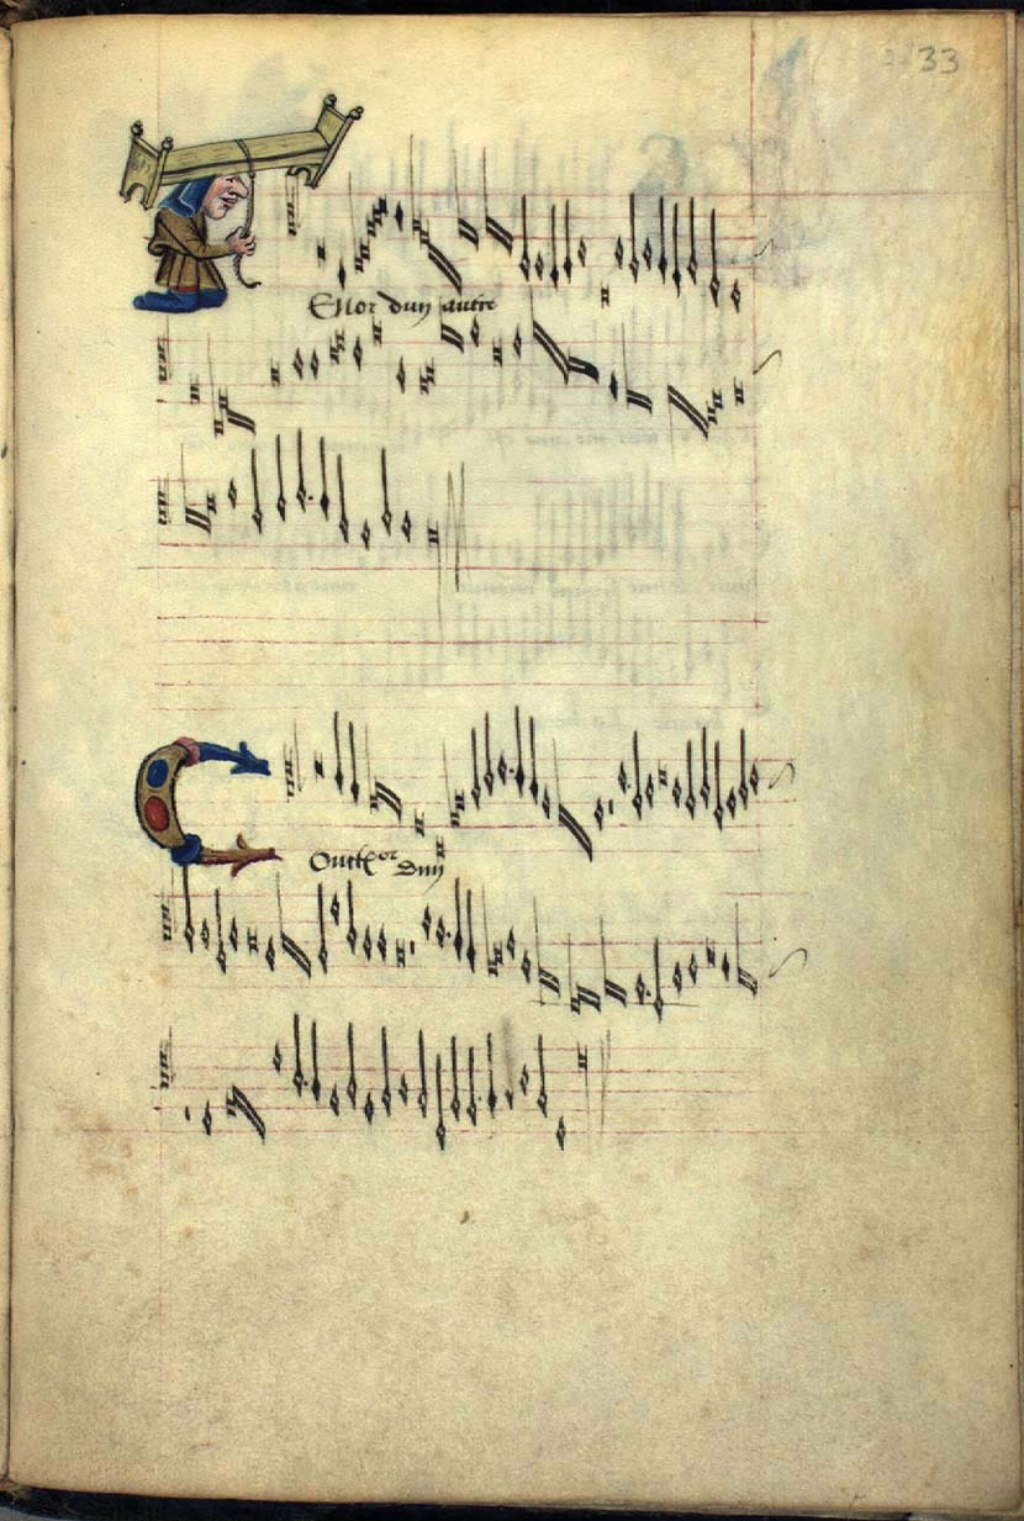barline: (443, 447, 485, 571)
c clef_5: (153, 478, 170, 533)
flat_6: (166, 479, 175, 528)
l2breve_5: (203, 493, 221, 517)
longa_8: (419, 512, 443, 592)
minim_4: (289, 427, 310, 518)
minim_5: (269, 431, 291, 528)
minim_6: (247, 447, 271, 541), (373, 445, 397, 538)
minim_7: (334, 450, 354, 549)
o1semibreve_6: (181, 453, 199, 535)
o2semibreve_7: (198, 456, 211, 533)
point: (303, 488, 322, 510)
semibreve_4: (223, 472, 243, 513)
semibreve_7: (397, 503, 419, 549)
semibreve_8: (352, 507, 374, 552)
semiminim_5: (318, 434, 336, 528)
